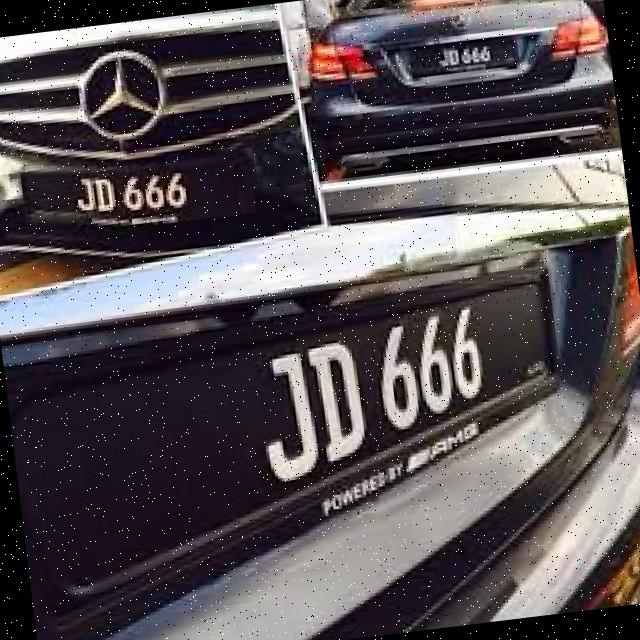License_Plate: (7, 253, 604, 620), (13, 147, 260, 246), (397, 31, 528, 85)
